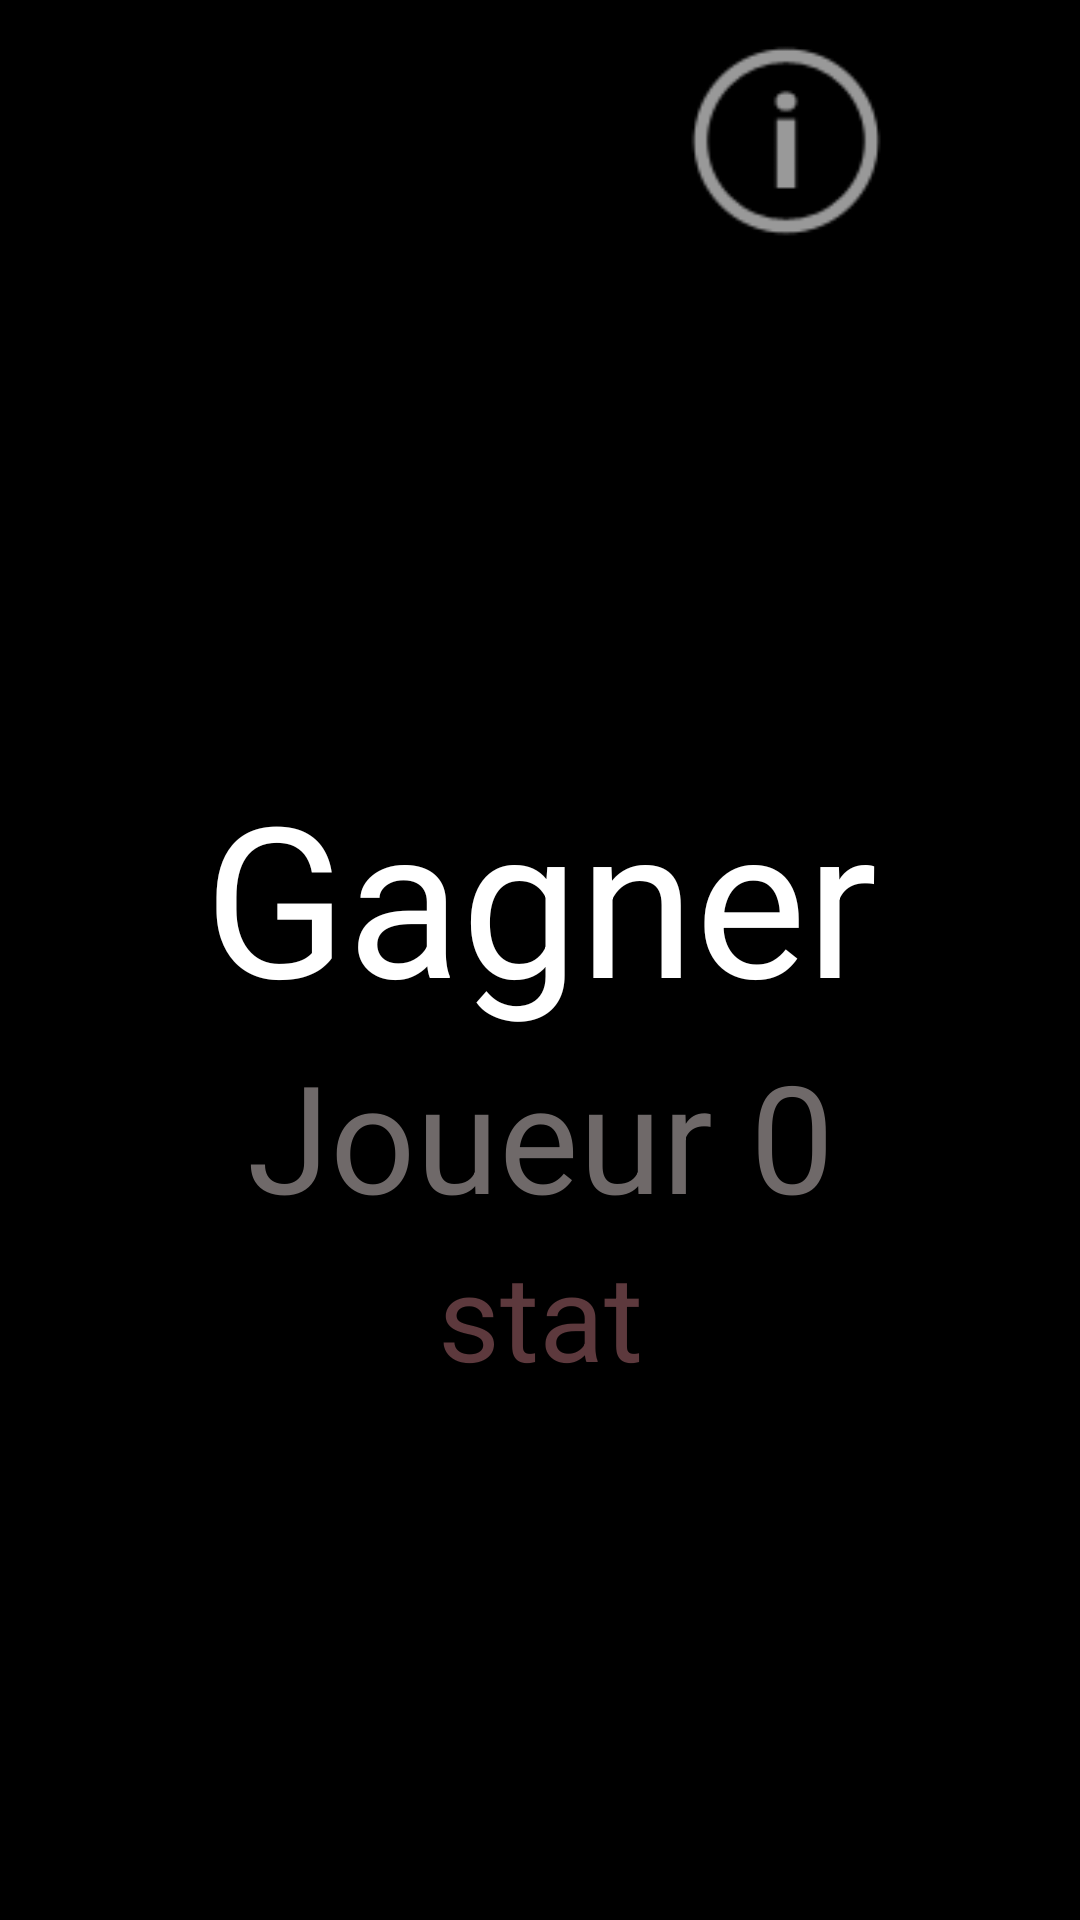

Icon bounding boxes for this 1080px x 1920px phone screenshot, format [x1=x1, y1=y1, x2=x2, y2=y2]:
info details: [x1=692, y1=48, x2=880, y2=235]
